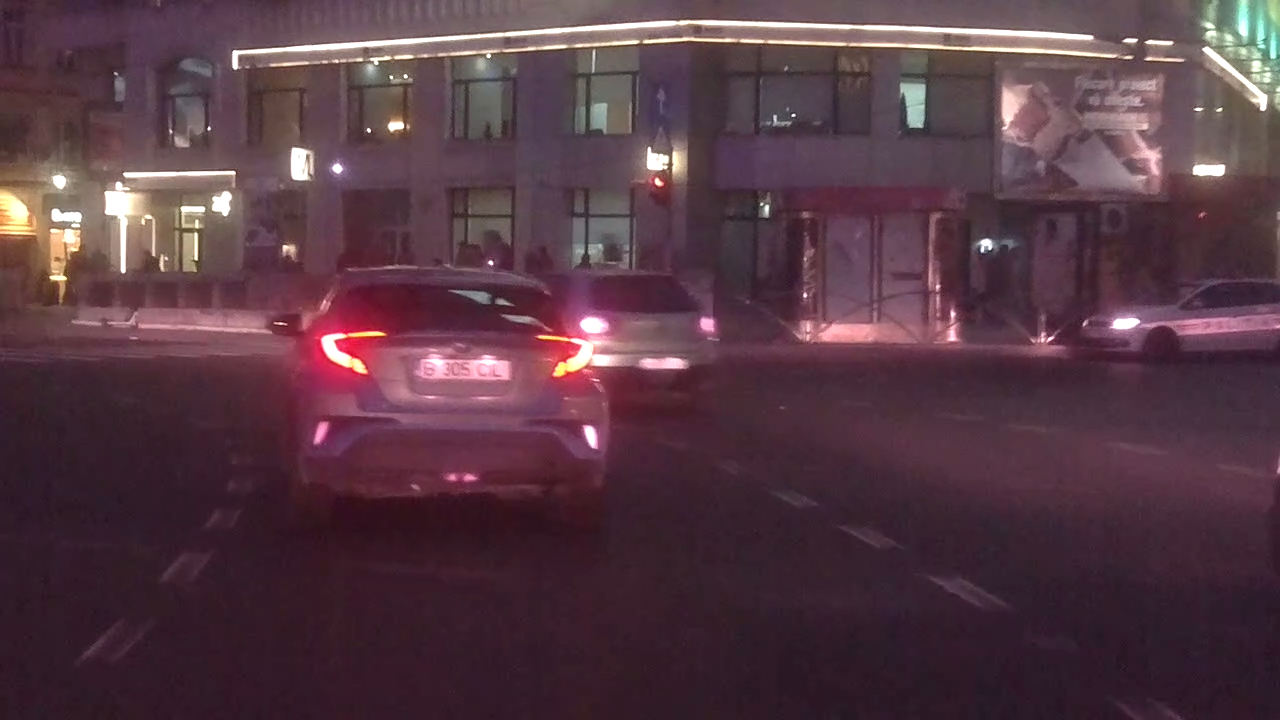license-plate: (410, 355, 513, 383)
